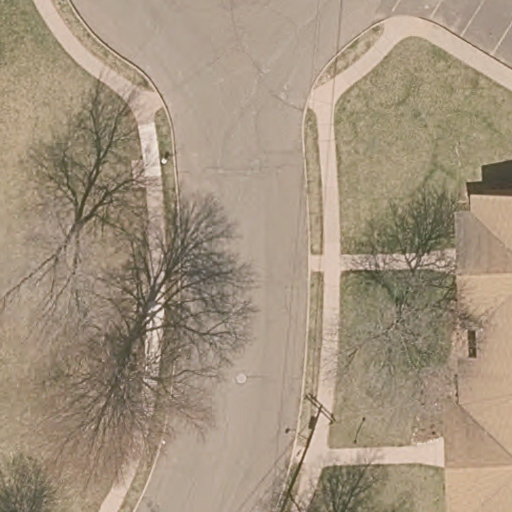DT: (280, 460, 304, 512)
